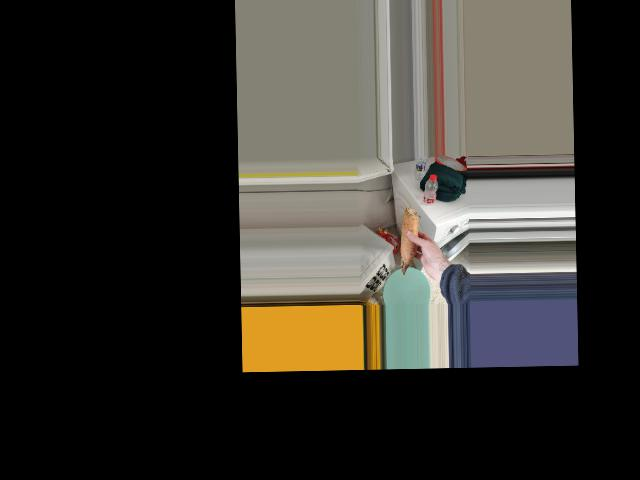sweet_potato: (399, 205, 422, 273)
